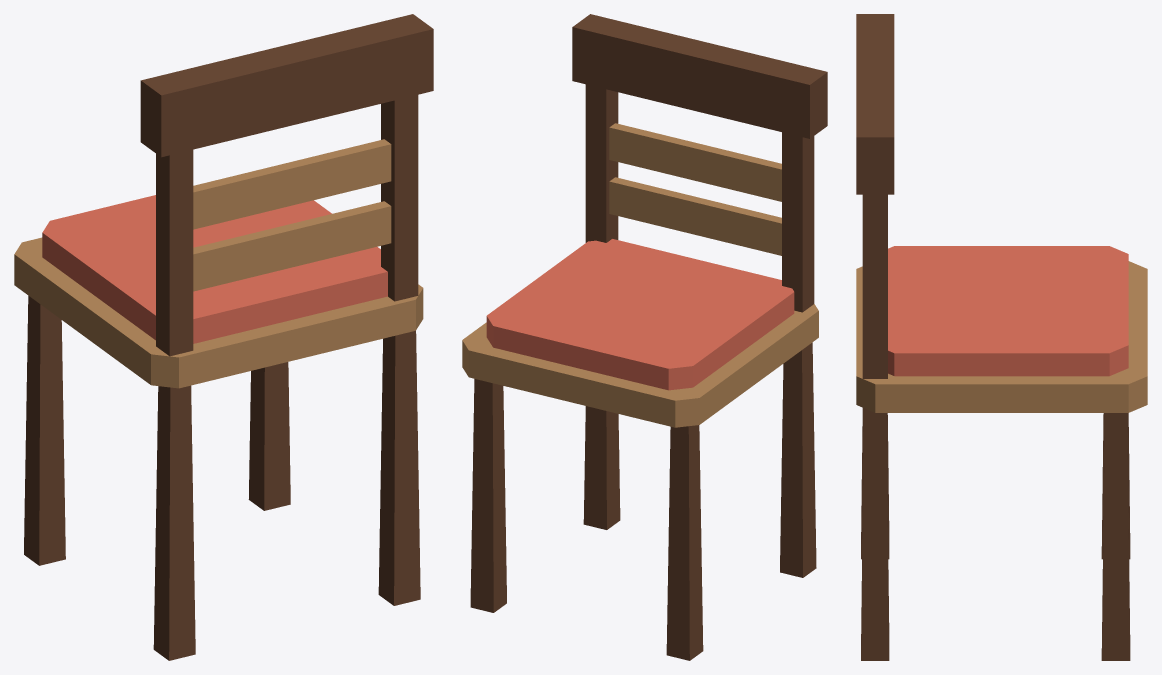
The model's file is chair.glb.
3 renders of one model, left to right at view 1: azimuth 30°, elevation 25°; view 2: azimuth 150°, elevation 25°; view 3: azimuth 270°, elevation 25°, orthographic. The views are drawn at different scales.
Parts seen in each view (by area): view 1: Body; view 2: Body; view 3: Body.
Part boxes in pixels (x1,y1,x2,y2): Body: [14, 14, 433, 660]; Body: [462, 14, 827, 660]; Body: [856, 14, 1147, 660].
Bounding box in the file's own units: 0.46 × 0.92 × 0.46.
